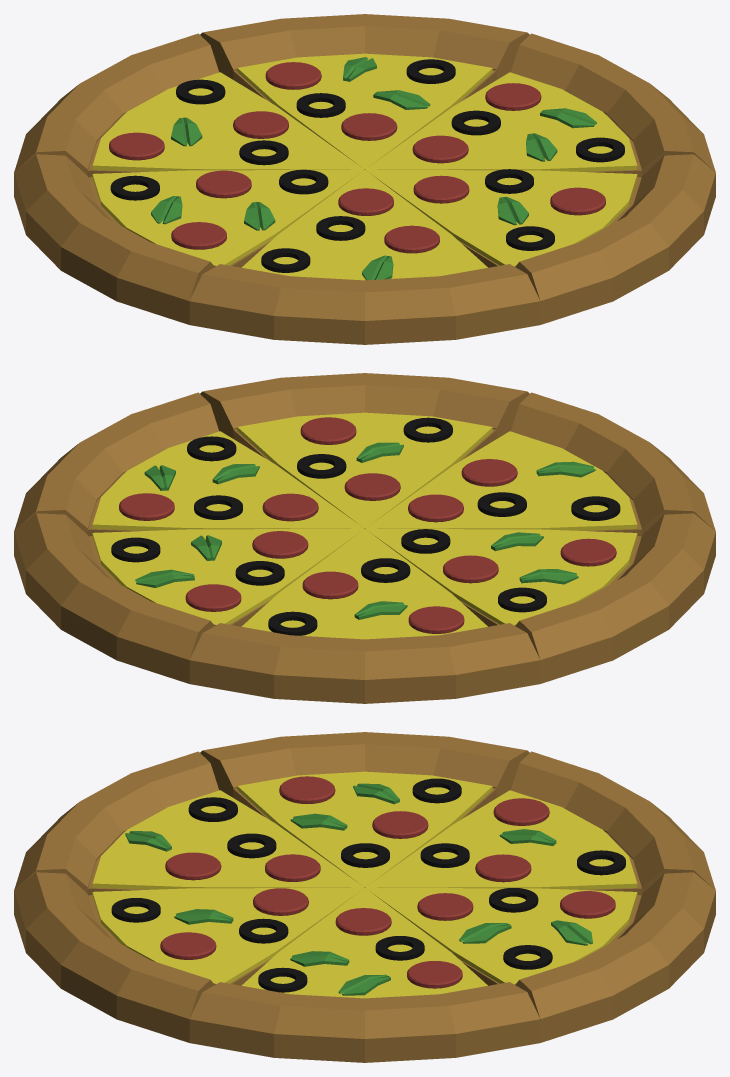
File: Item_PizzaFull.fbx
3 views of the same model, one above another, from view 1: azimuth 30°, elevation 25°; view 2: azimuth 150°, elevation 25°; view 3: azimuth 270°, elevation 25° (orthographic).
Visible parts, largest first — view 1: Circle; view 2: Circle; view 3: Circle.
Part boxes in pixels (x1,y1,x2,y2): Circle: [14, 14, 715, 344]; Circle: [14, 373, 715, 703]; Circle: [14, 732, 715, 1062].
Size of the model in its own units: 200 by 13.63 by 200.
